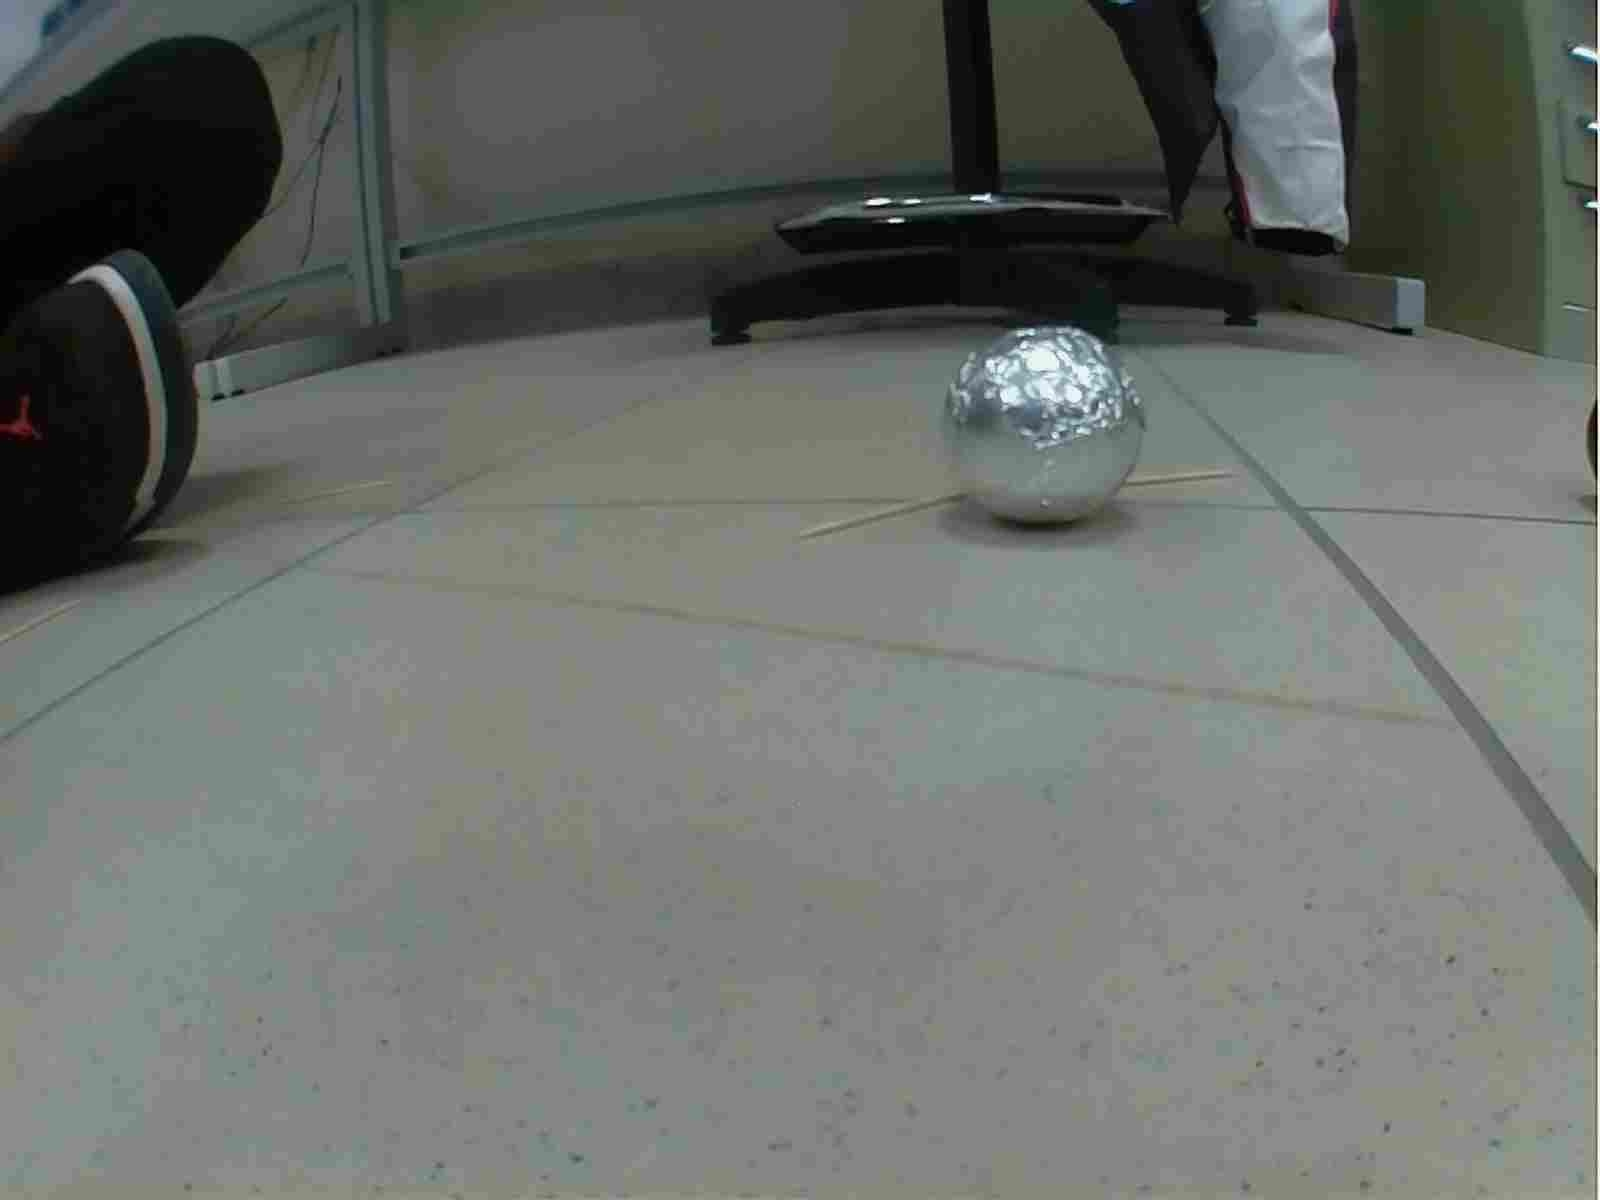bianca: (944, 321, 1150, 532)
nera: (1580, 397, 1600, 500)
